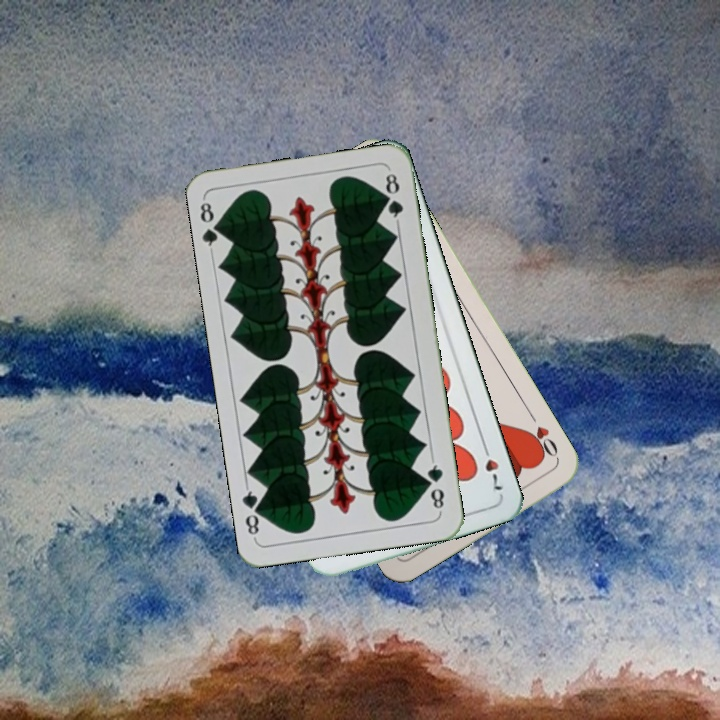G8: (196, 196, 227, 255), (422, 456, 447, 515)
H7: (478, 439, 506, 495)
HO: (522, 408, 561, 462)
